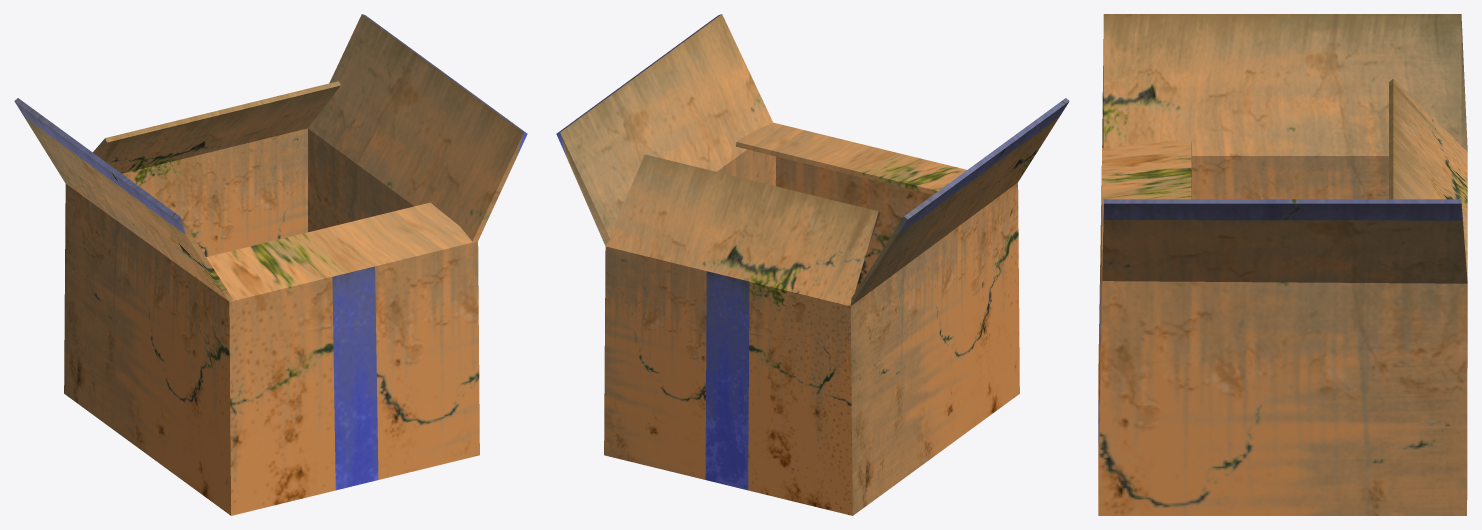
The model's file is Cartoon Box.fbx.
3 views of the same model, side by side, from view 1: azimuth 30°, elevation 25°; view 2: azimuth 150°, elevation 25°; view 3: azimuth 270°, elevation 25° (orthographic). The views are drawn at different scales.
Visible parts, largest first — view 1: Cartoon Box; view 2: Cartoon Box; view 3: Cartoon Box.
Boxes of the visible parts, bbox=[...] form: Cartoon Box: bbox=[14, 14, 527, 515]; Cartoon Box: bbox=[556, 14, 1069, 515]; Cartoon Box: bbox=[1098, 14, 1467, 515].
Bounding box in the file's own units: 0.5025 × 0.4229 × 0.4145.
